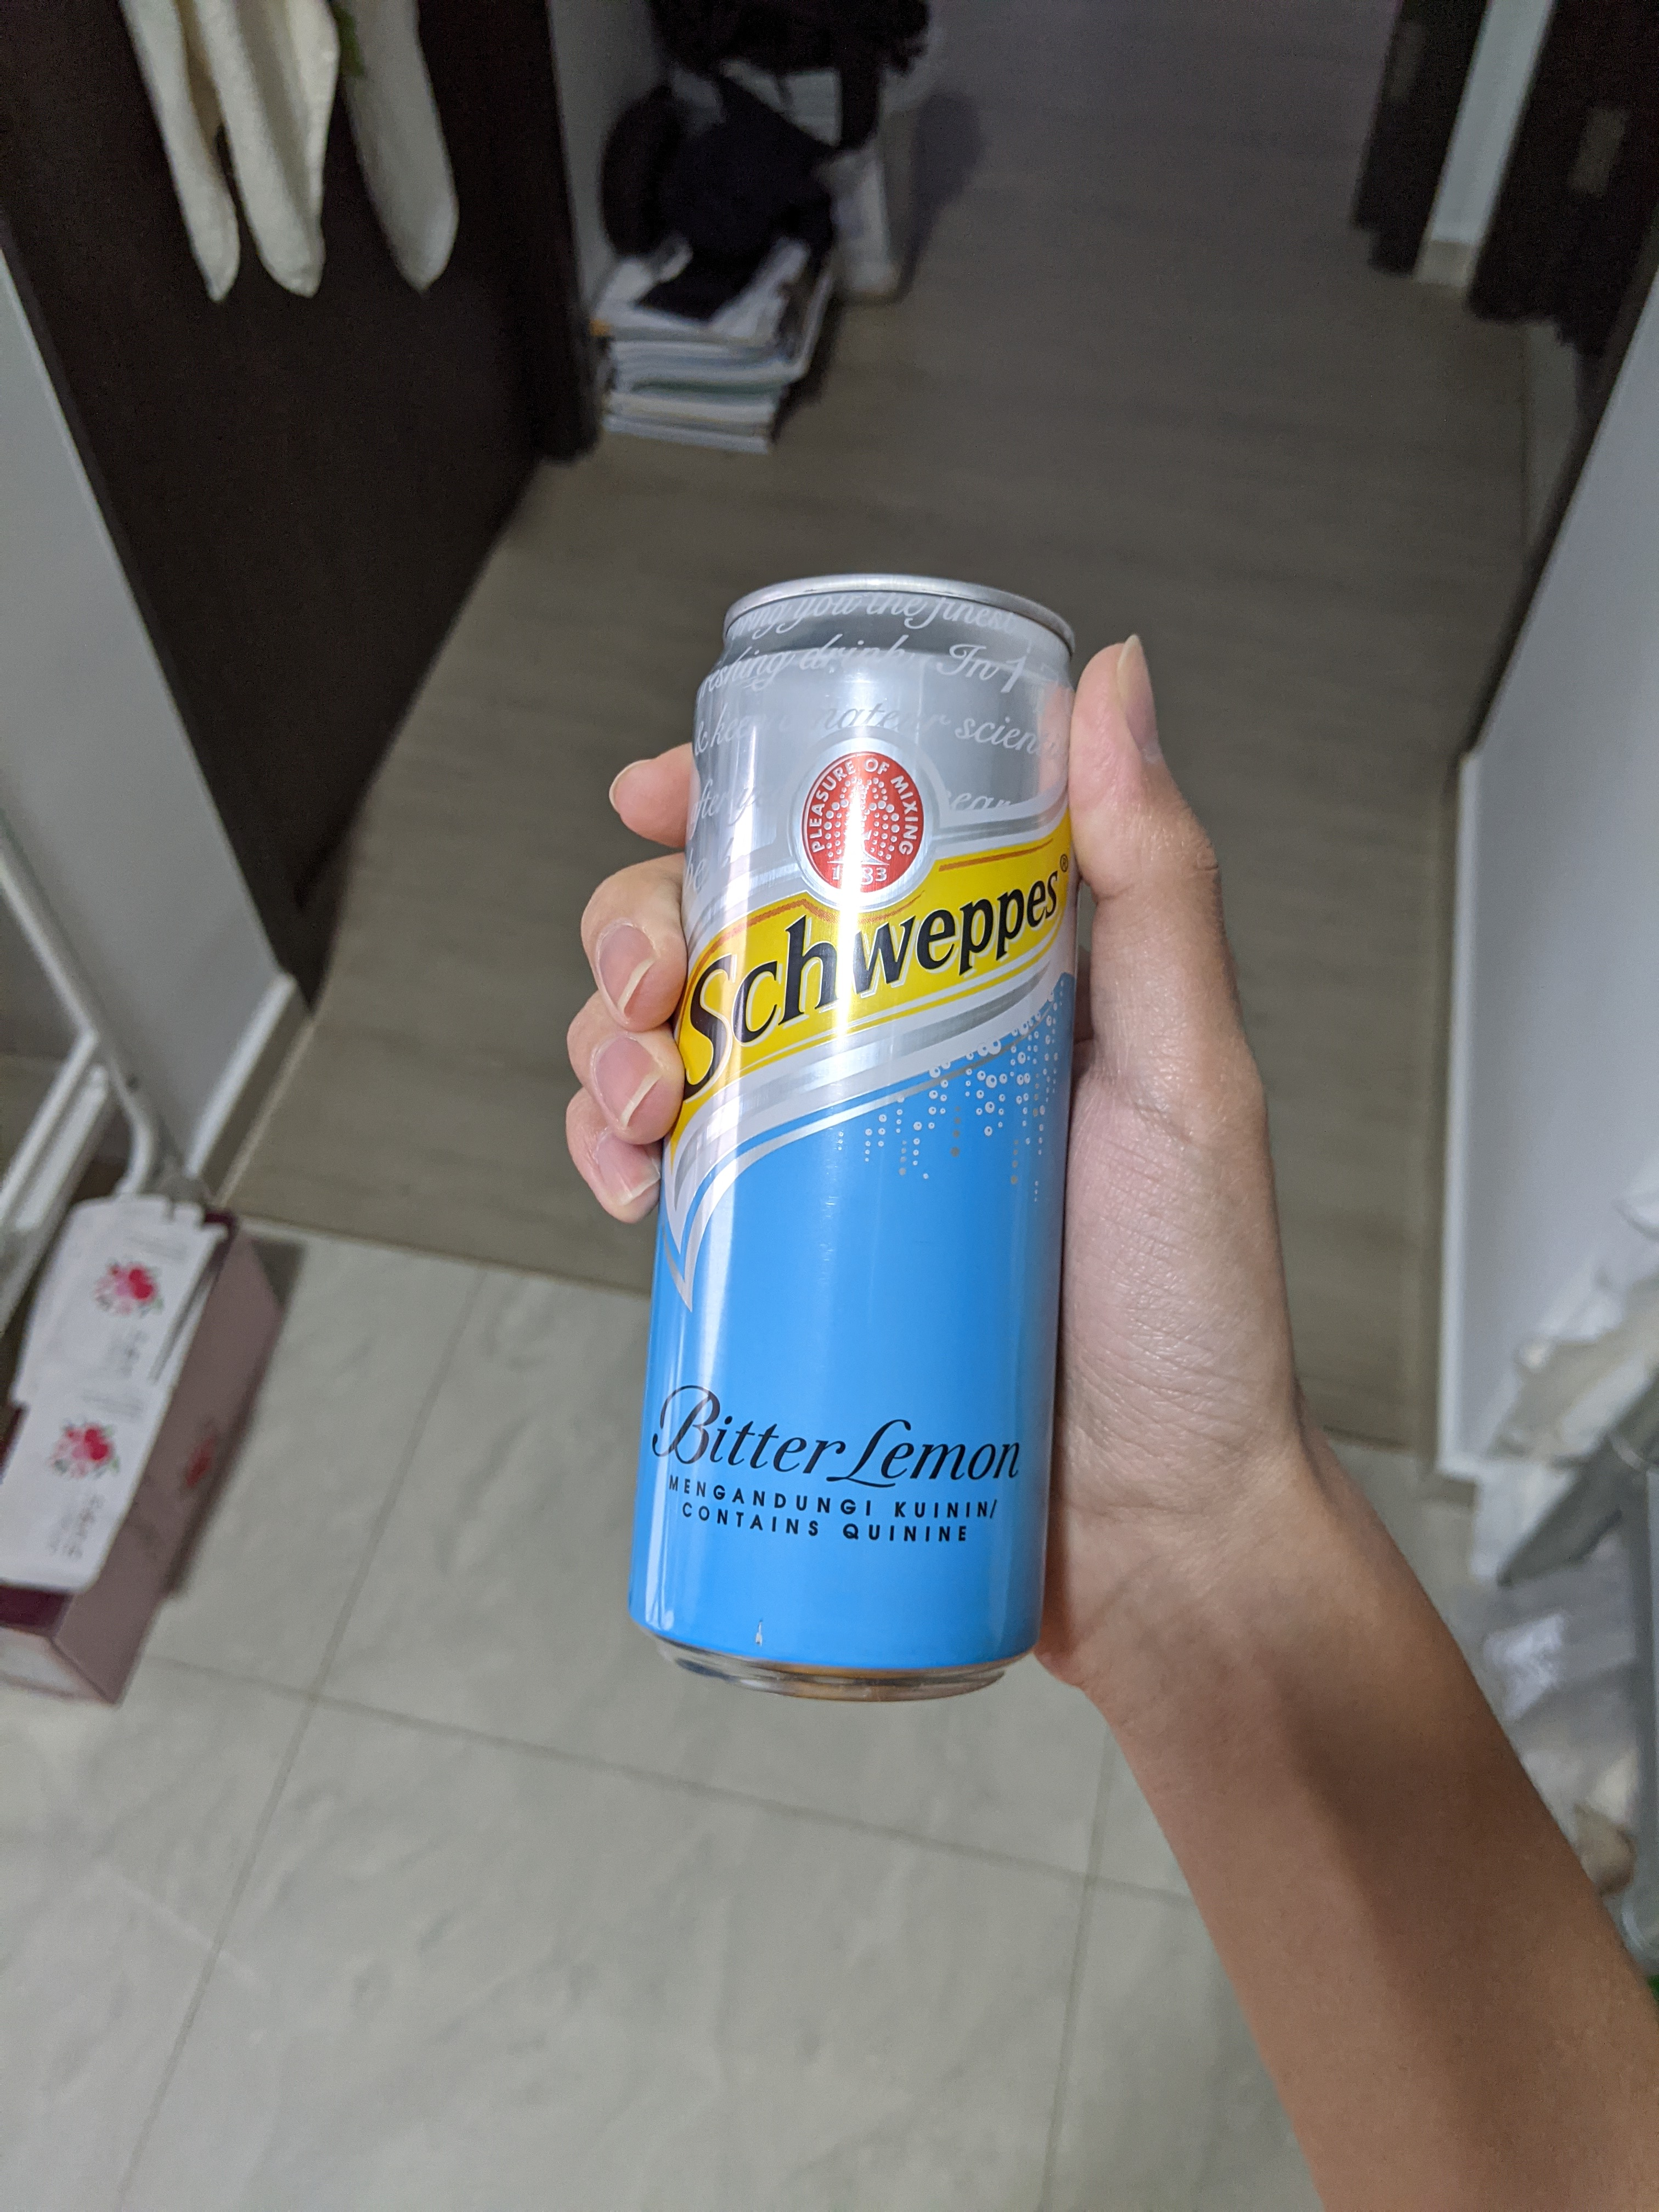schweppes drink can bitter lemon: (584, 521, 1162, 1754)
